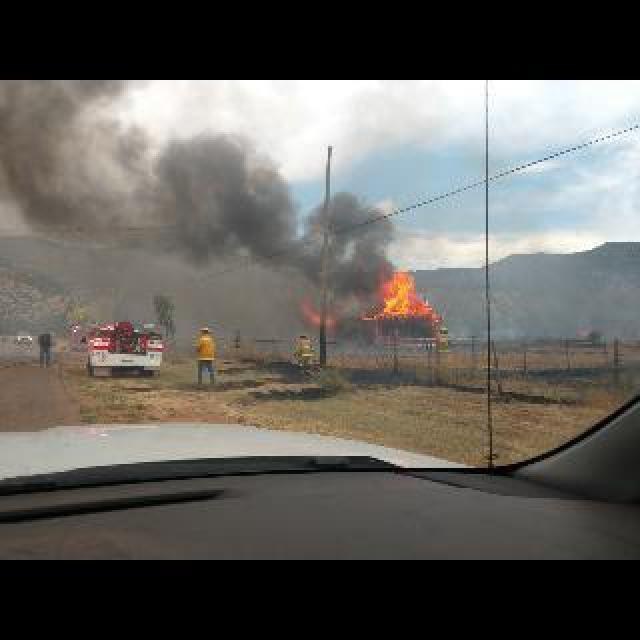Fire: (370, 260, 446, 322)
Smoke: (0, 112, 394, 296)
